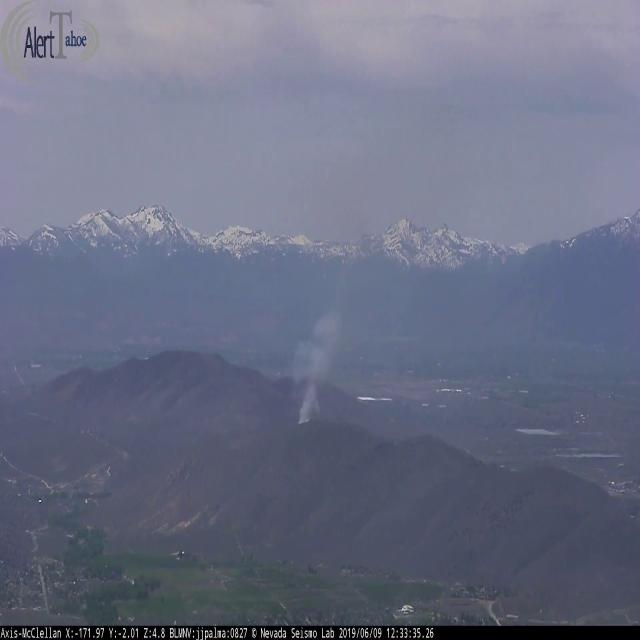smoke: (291, 254, 357, 425)
